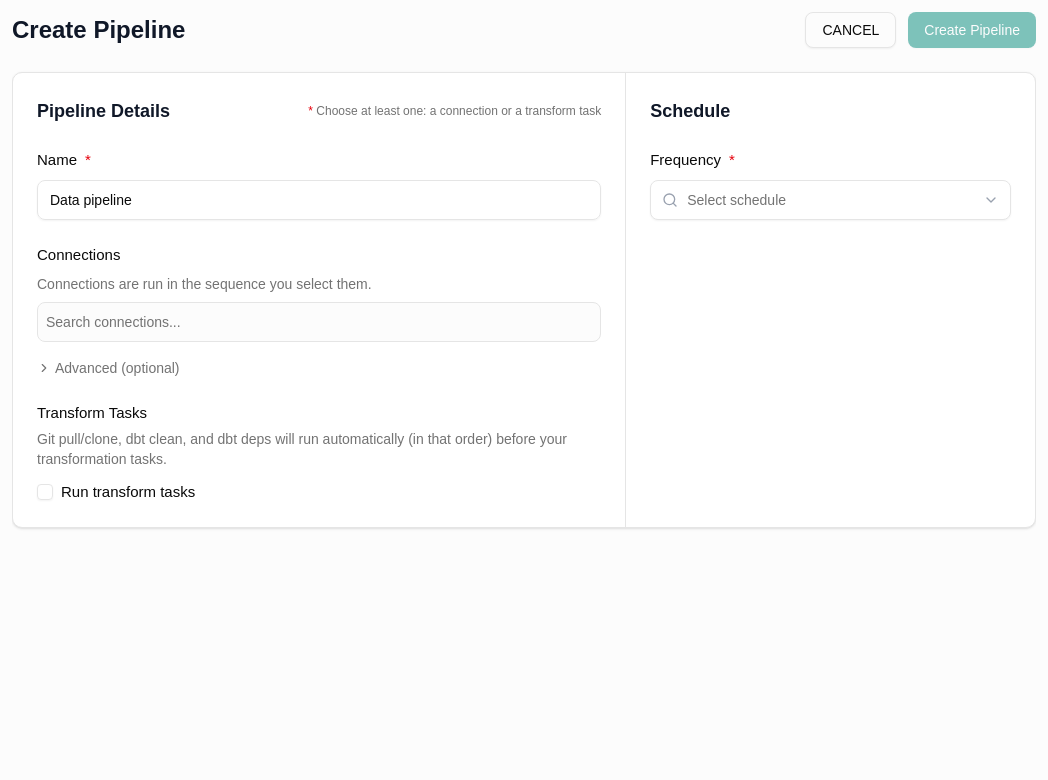
Test: PipelineForm - Edit Mode Edge Cases › renders continueOnSyncFailure checkbox unchecked by default in create mode
This screenshot has width=1048, height=780.
Click the button with test id "advanced-settings-toggle" at (108, 368), box [37,358,180,378]
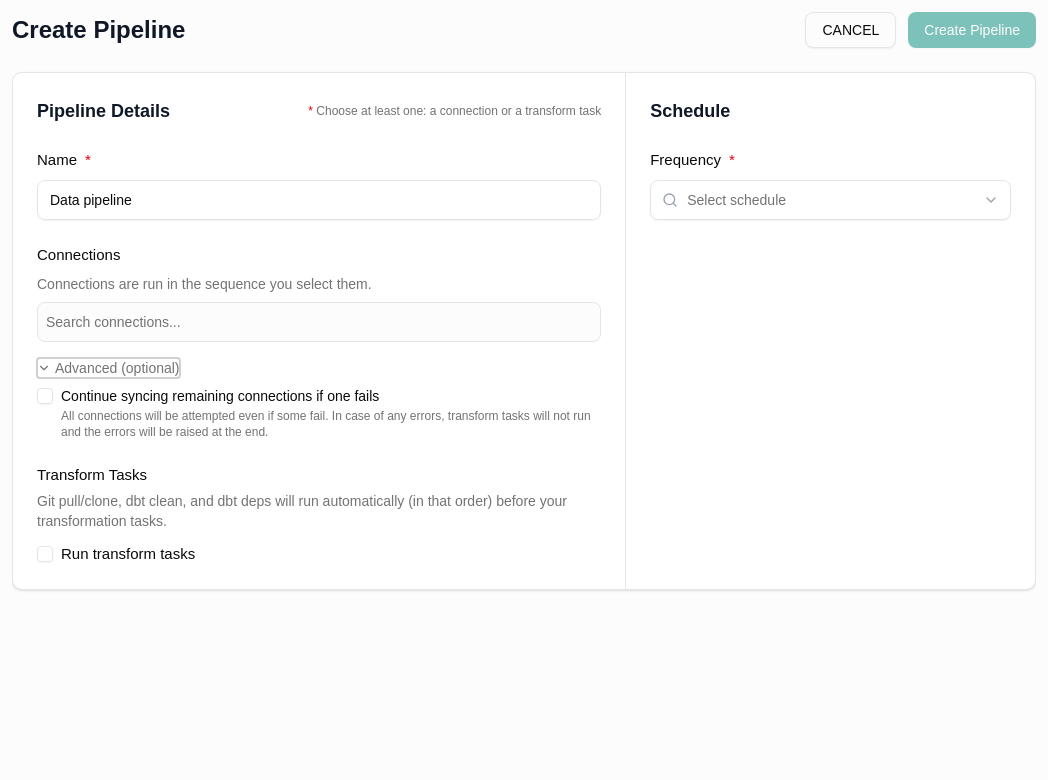
Now the checkbox with test id "continue-on-sync-failure-checkbox" is not checked, box [37,388,53,404]
